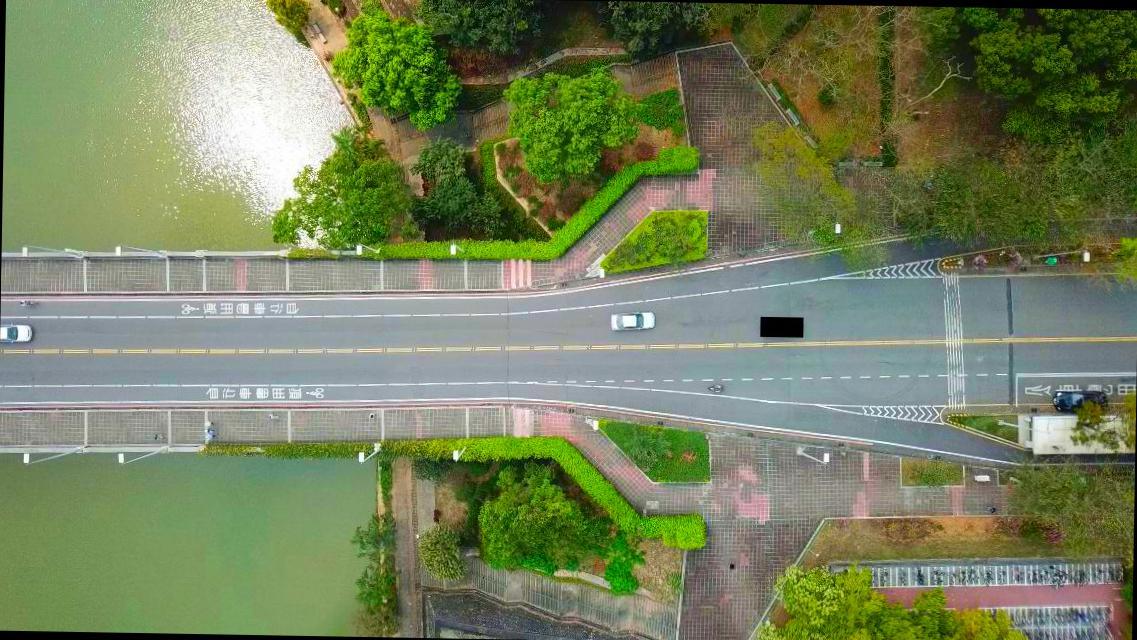vehicle: (1052, 388, 1106, 414), (610, 308, 655, 330), (0, 321, 33, 344)
